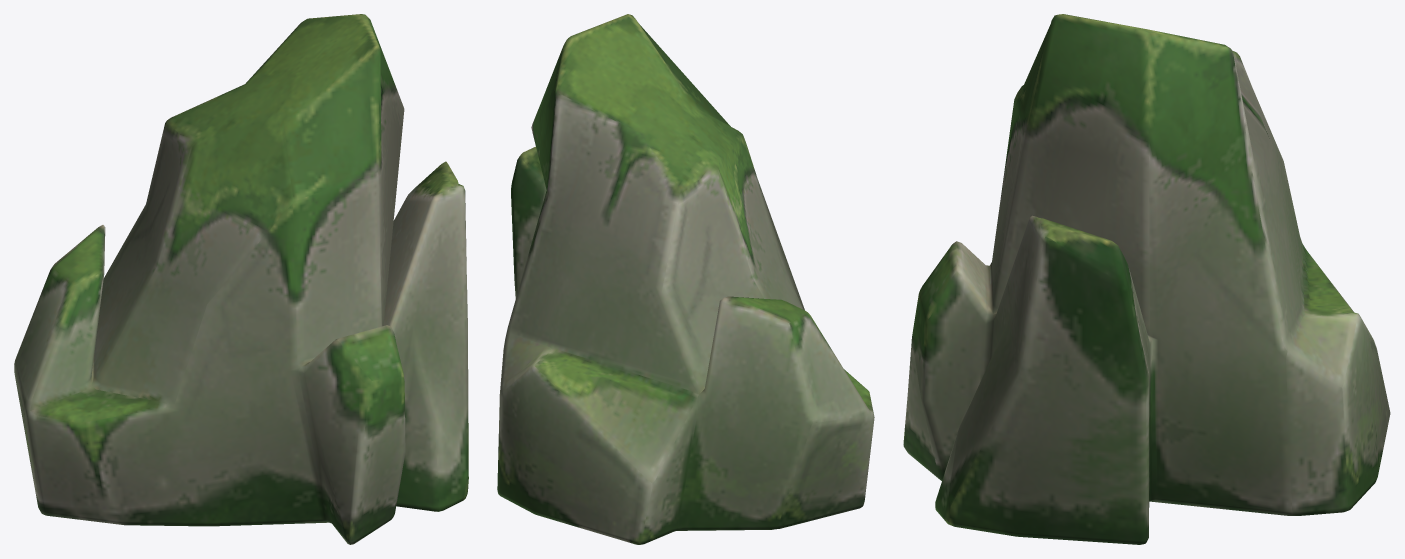
The model's file is NormalRock6.fbx.
The picture shows the model from 3 angles, left to right: view 1: azimuth 30°, elevation 25°; view 2: azimuth 150°, elevation 25°; view 3: azimuth 270°, elevation 25°; orthographic projection. The views are drawn at different scales.
Parts seen in each view (by area): view 1: NormalRock6; view 2: NormalRock6; view 3: NormalRock6.
Boxes of the visible parts, box(x1,y1,x2,y2) form: NormalRock6: box(14, 14, 468, 544); NormalRock6: box(497, 14, 874, 544); NormalRock6: box(903, 14, 1390, 544).
Size of the model in its own units: 2.55 by 2.59 by 2.32.
